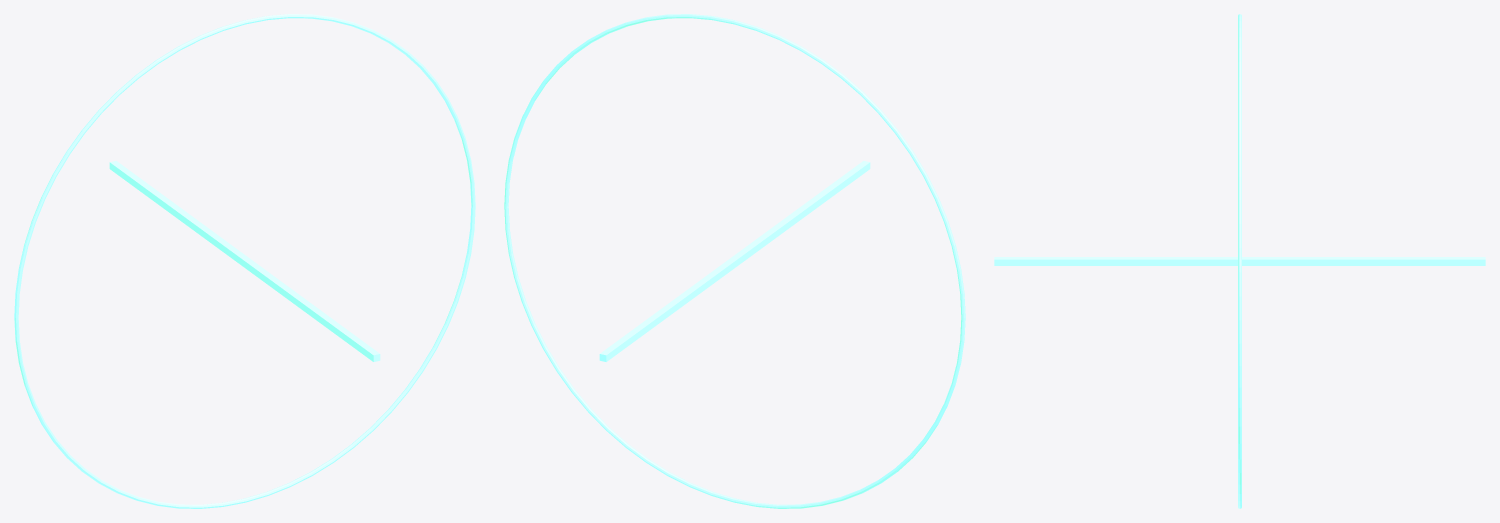
Rendered from hexad-scanner.glb.
The picture shows the model from 3 angles, left to right: view 1: azimuth 30°, elevation 25°; view 2: azimuth 150°, elevation 25°; view 3: azimuth 270°, elevation 25°; orthographic projection. The views are drawn at different scales.
Parts seen in each view (by area): view 1: Scanner_Beam, Beam_Node; view 2: Scanner_Beam, Beam_Node; view 3: Beam_Node, Scanner_Beam.
Boxes of the visible parts, x1=… form: Scanner_Beam: x1=14, y1=14, x2=475, y2=508; Beam_Node: x1=109, y1=161, x2=380, y2=361; Scanner_Beam: x1=504, y1=14, x2=965, y2=508; Beam_Node: x1=599, y1=161, x2=870, y2=361; Beam_Node: x1=994, y1=257, x2=1485, y2=265; Scanner_Beam: x1=1238, y1=14, x2=1241, y2=508.
Size of the model in its own units: 2.82 by 2.82 by 2.8.
